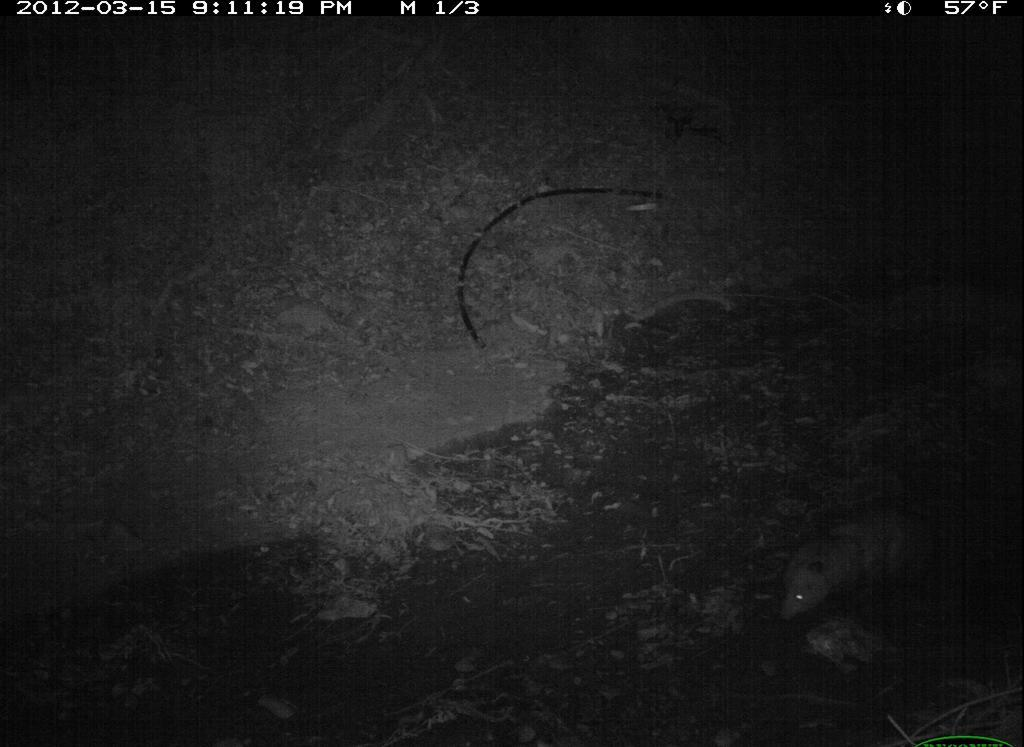opossum: (771, 492, 968, 625)
